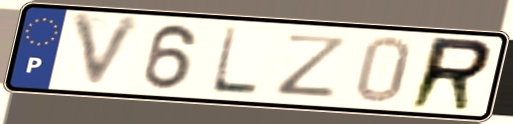0: (351, 34, 414, 107)
6: (142, 21, 201, 92)
L: (207, 24, 263, 98)
R: (404, 34, 497, 114)
V: (68, 11, 148, 94)
Z: (275, 32, 353, 100)
